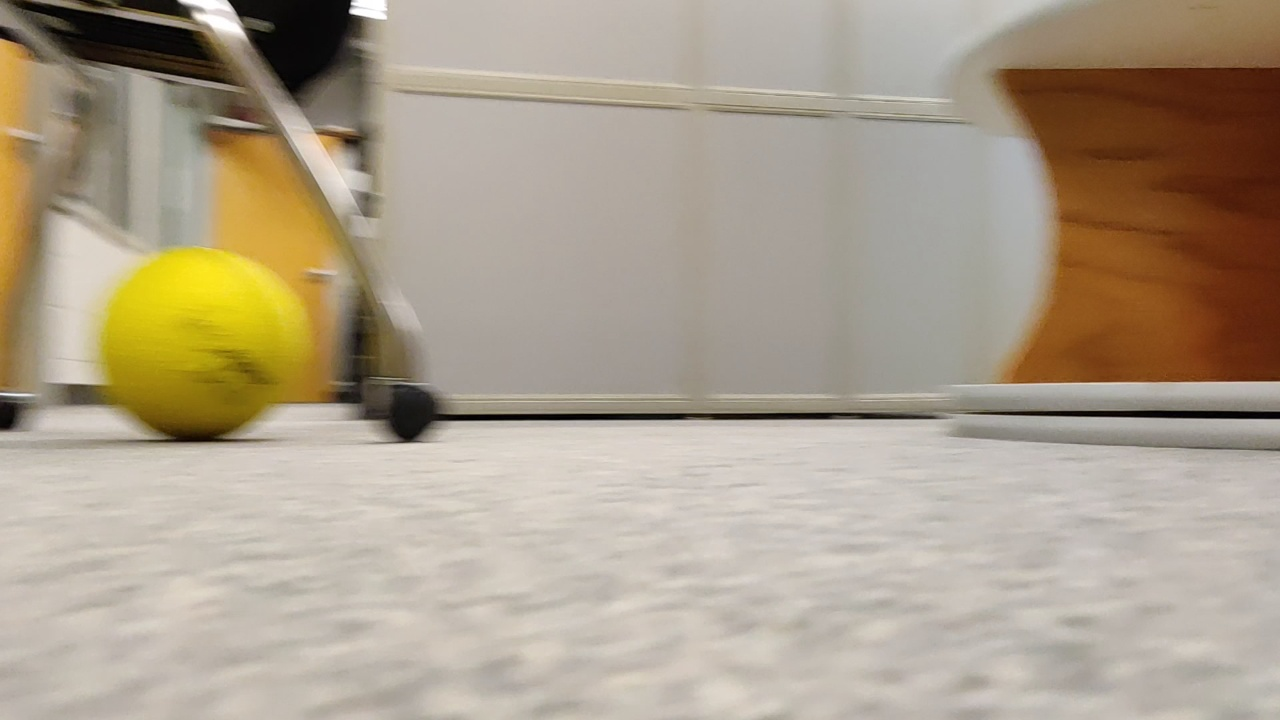Ball: (109, 248, 313, 445)
